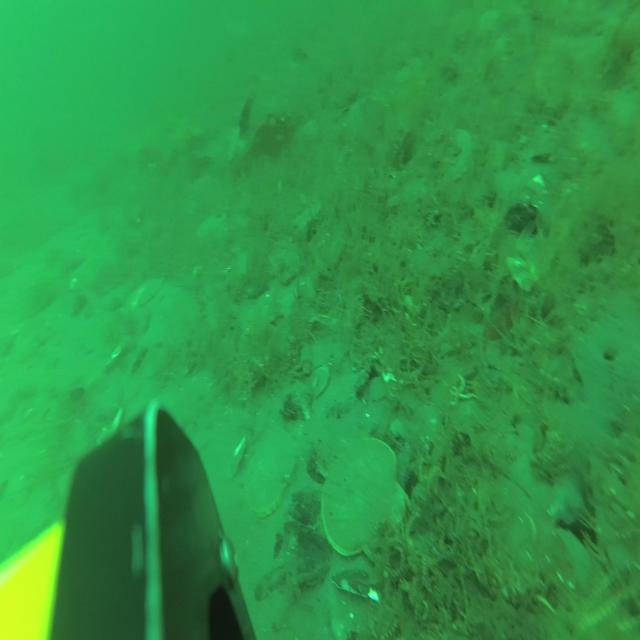scallop: (320, 440, 410, 565), (246, 426, 296, 516), (441, 125, 473, 183), (128, 274, 164, 307)
